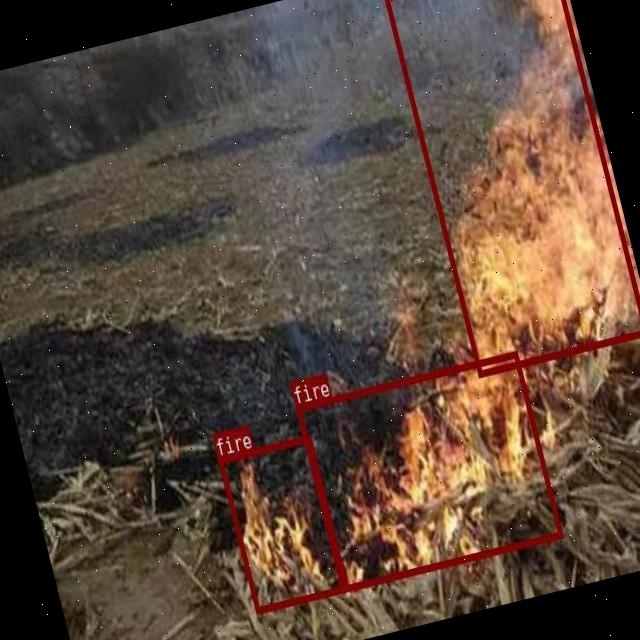fire: (379, 0, 640, 376), (294, 350, 562, 591), (217, 433, 347, 612)
